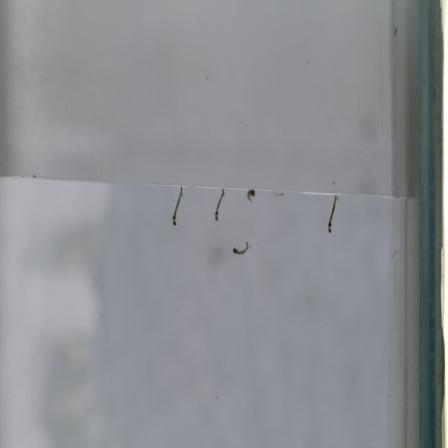Jentik-Nyamuk: (322, 192, 342, 238), (169, 183, 184, 228), (212, 185, 228, 225), (227, 238, 254, 258), (241, 186, 261, 205)
